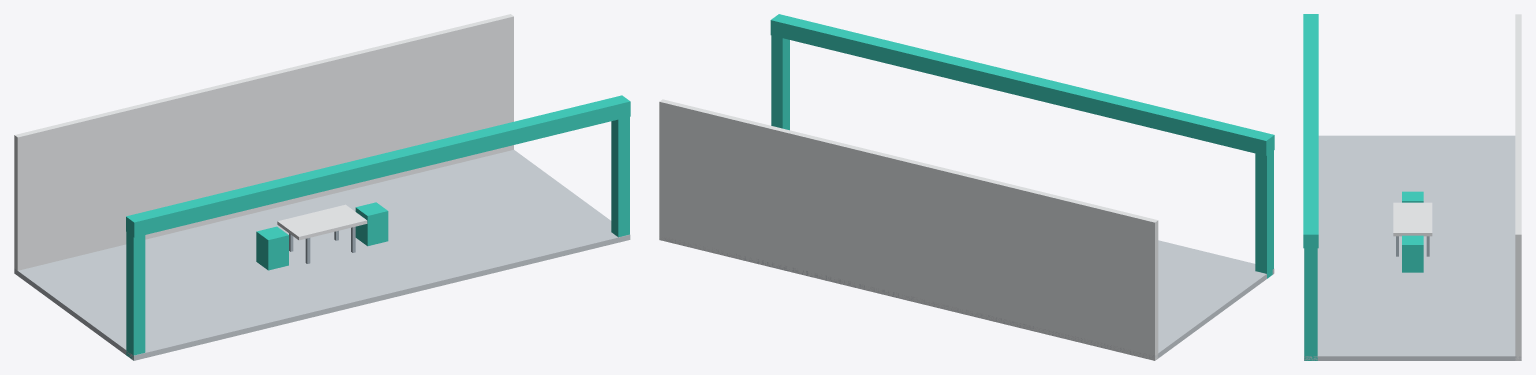
3 views of the same model, side by side, from view 1: azimuth 30°, elevation 25°; view 2: azimuth 150°, elevation 25°; view 3: azimuth 270°, elevation 25° (orthographic). The views are drawn at different scales.
Parts seen in each view (by area): view 1: Exhibition Booth Concept; view 2: Exhibition Booth Concept; view 3: Exhibition Booth Concept.
Part boxes in pixels (x1,y1,x2,y2): Exhibition Booth Concept: (14, 14, 630, 360); Exhibition Booth Concept: (659, 14, 1274, 360); Exhibition Booth Concept: (1303, 14, 1521, 360).
Bounding box in the file's own units: 12 × 3.2 × 5.02.
